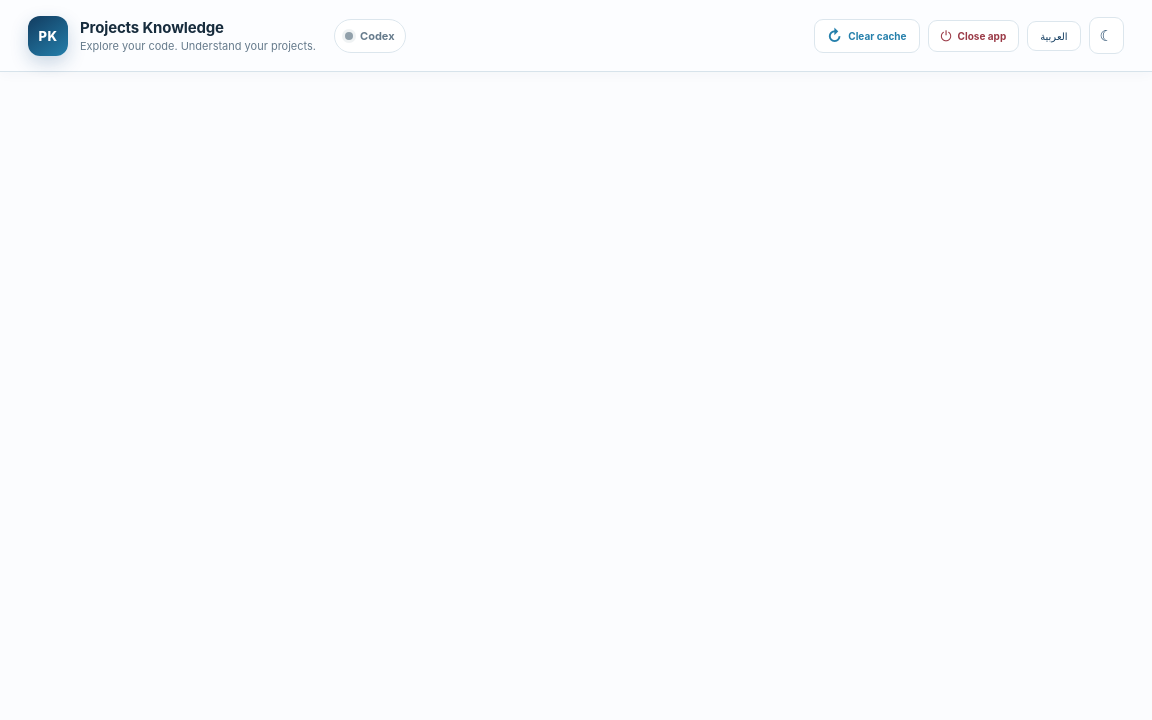
HeaderComponent desktop shutdown › loads Codex settings on demand without starting a model request
Click the button with class "codex-status" at (370, 36), box [334,18,406,52]
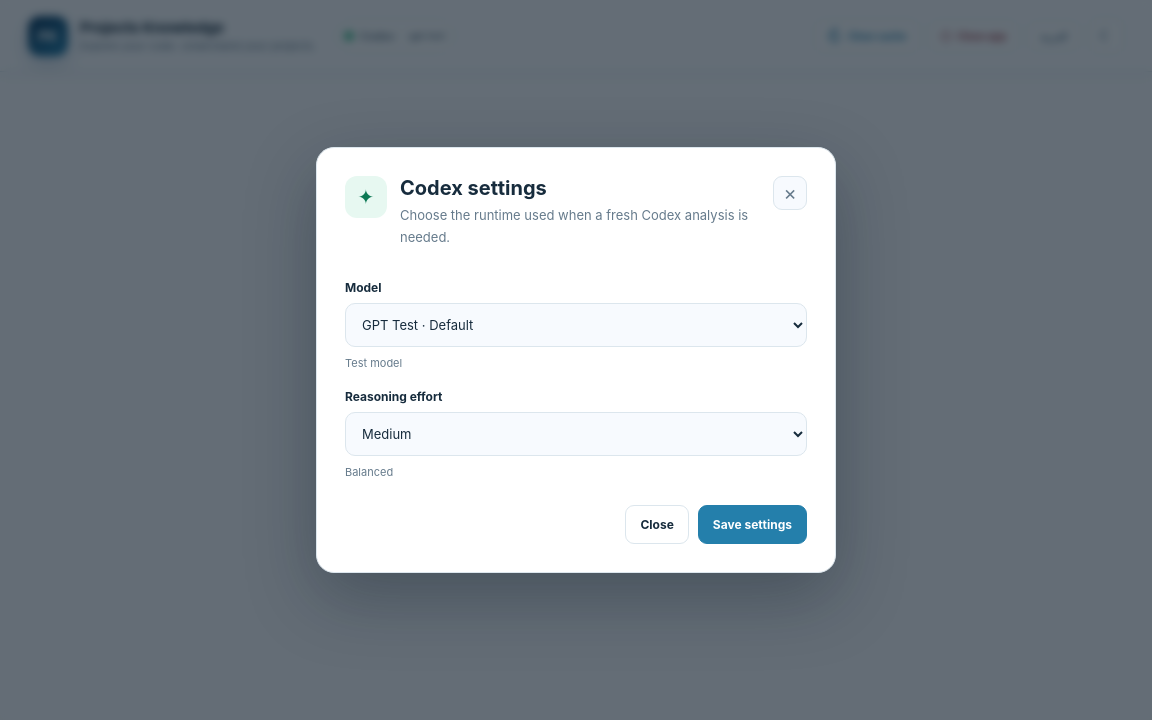
Now the dialog with class "codex-dialog" is shown, box [316,147,836,573]
Now the dropdown with id "codex-model" shows "GPT Test · Default", box [345,303,807,347]
